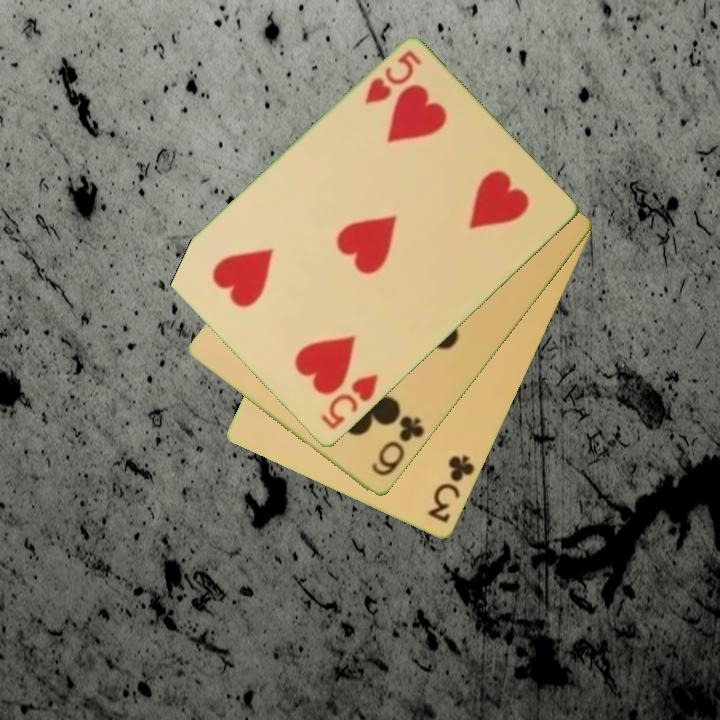3c: (424, 452, 478, 526)
5h: (317, 371, 382, 434), (361, 47, 424, 108)
6c: (367, 412, 428, 480)
